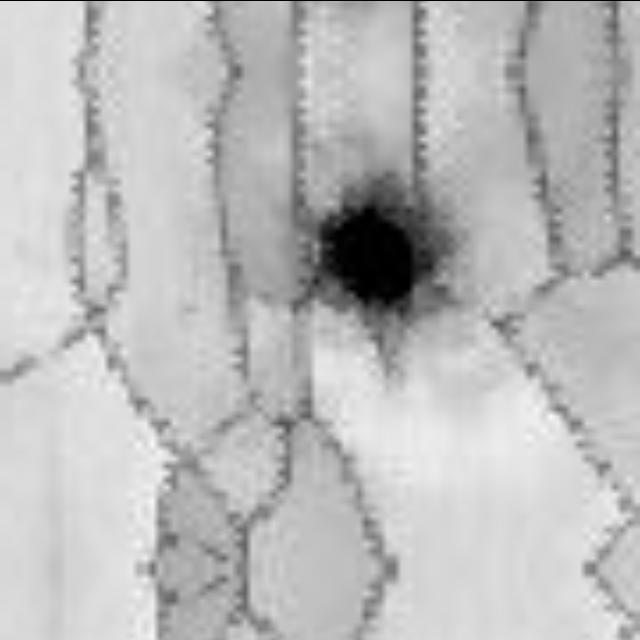good_void: (289, 164, 471, 370)
